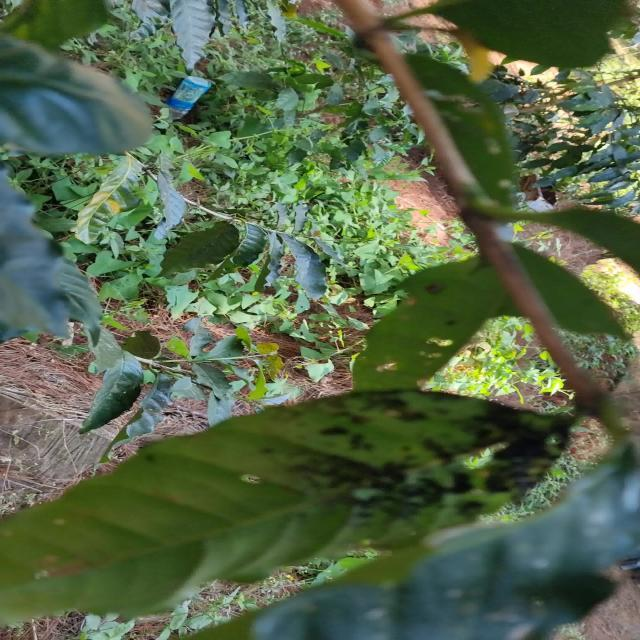leaves: (0, 335, 591, 640)
